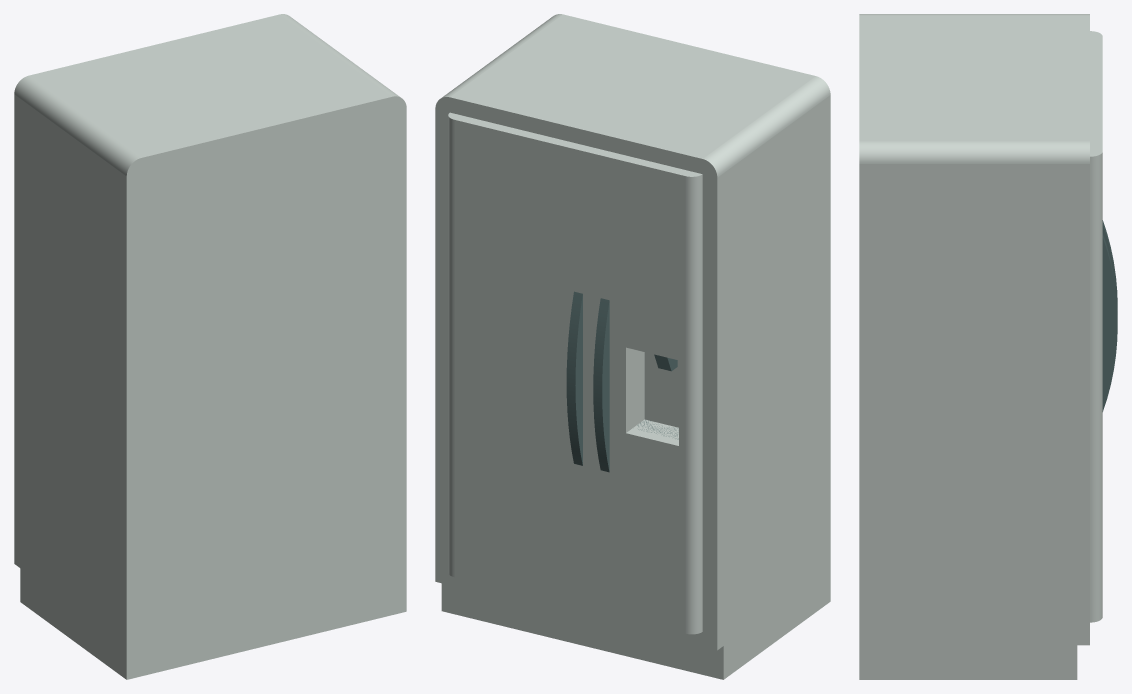
Rendered from kitchenFridgeLarge.dae.
The picture shows the model from 3 angles, left to right: view 1: azimuth 30°, elevation 25°; view 2: azimuth 150°, elevation 25°; view 3: azimuth 270°, elevation 25°; orthographic projection. The views are drawn at different scales.
Visible parts, largest first — view 1: kitchenFridgeLarge; view 2: kitchenFridgeLarge, doorRight, doorLeft; view 3: kitchenFridgeLarge, doorRight, doorLeft.
Boxes of the visible parts, bbox=[...] form: kitchenFridgeLarge: bbox=[14, 14, 406, 679]; kitchenFridgeLarge: bbox=[435, 14, 830, 679]; doorRight: bbox=[448, 112, 597, 610]; doorLeft: bbox=[591, 148, 702, 634]; kitchenFridgeLarge: bbox=[859, 14, 1089, 679]; doorRight: bbox=[1090, 83, 1117, 622]; doorLeft: bbox=[1090, 31, 1117, 310].
Size of the model in its own units: 0.52 by 0.92 by 0.4055.
